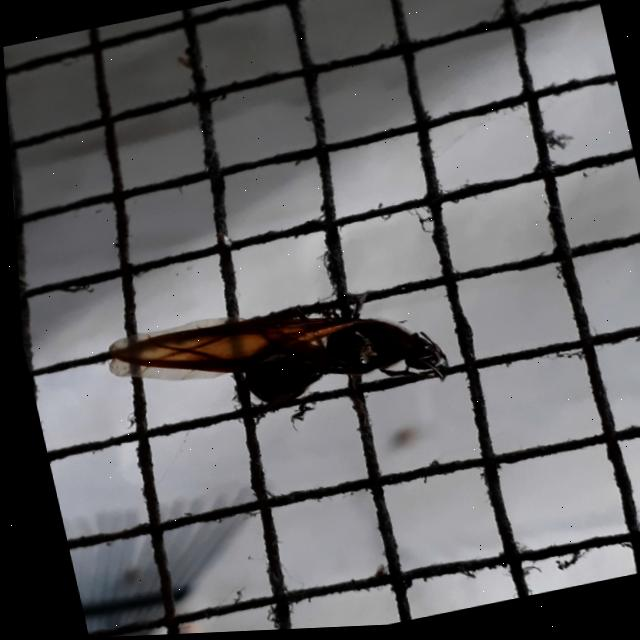Alive-Female-Alate: (94, 274, 452, 448)
